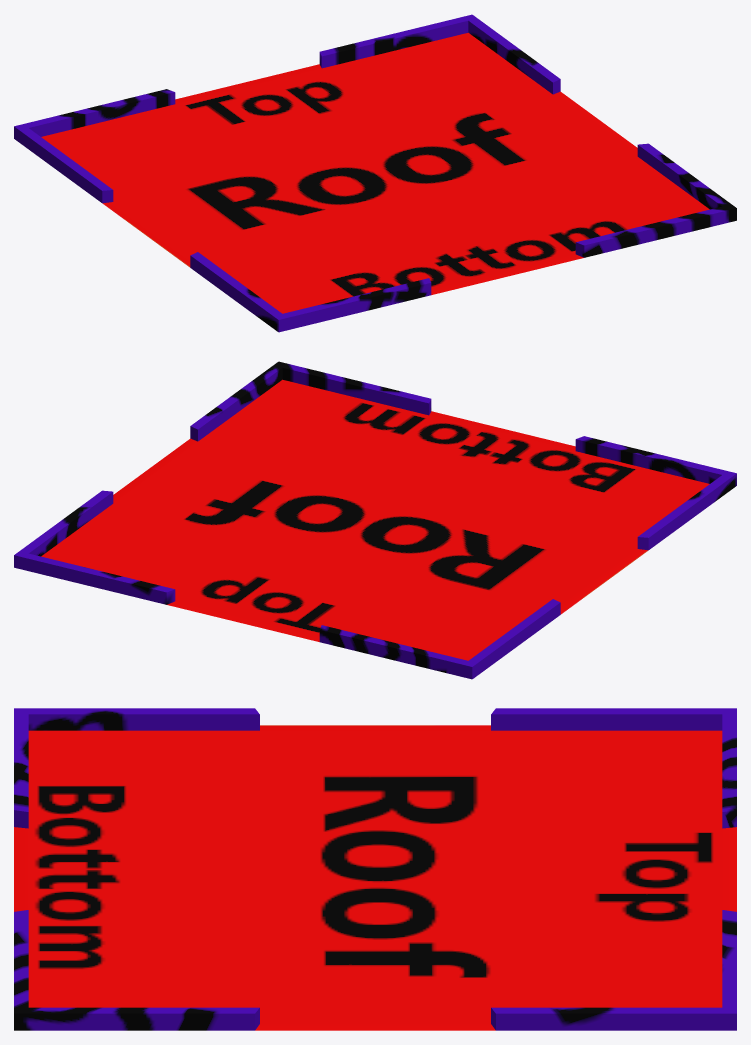
File: ENV_Roof1x1TypeOne.fbx
3 renders of one model, top to bottom at view 1: azimuth 30°, elevation 25°; view 2: azimuth 150°, elevation 25°; view 3: azimuth 270°, elevation 25°, orthographic. The views are drawn at different scales.
Parts seen in each view (by area): view 1: OneXOneRoofOne; view 2: OneXOneRoofOne; view 3: OneXOneRoofOne.
Boxes of the visible parts, bbox=[...] form: OneXOneRoofOne: bbox=[14, 14, 736, 332]; OneXOneRoofOne: bbox=[14, 361, 736, 679]; OneXOneRoofOne: bbox=[14, 708, 736, 1030].
Bounding box in the file's own units: 12 × 0.3114 × 12.
1 material, 1 textured.
